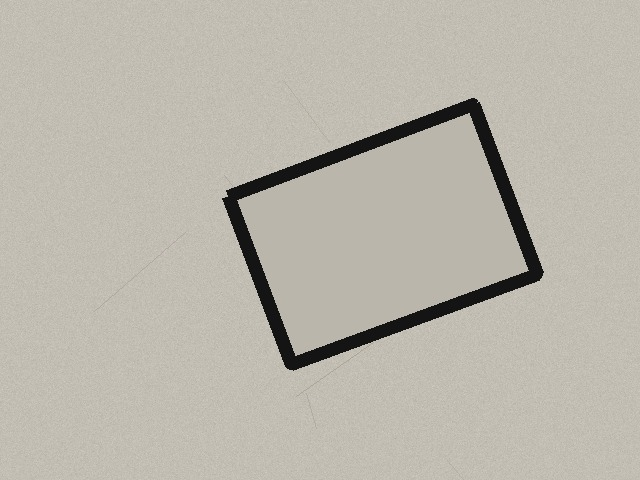parking_area: (228, 104, 537, 364)
